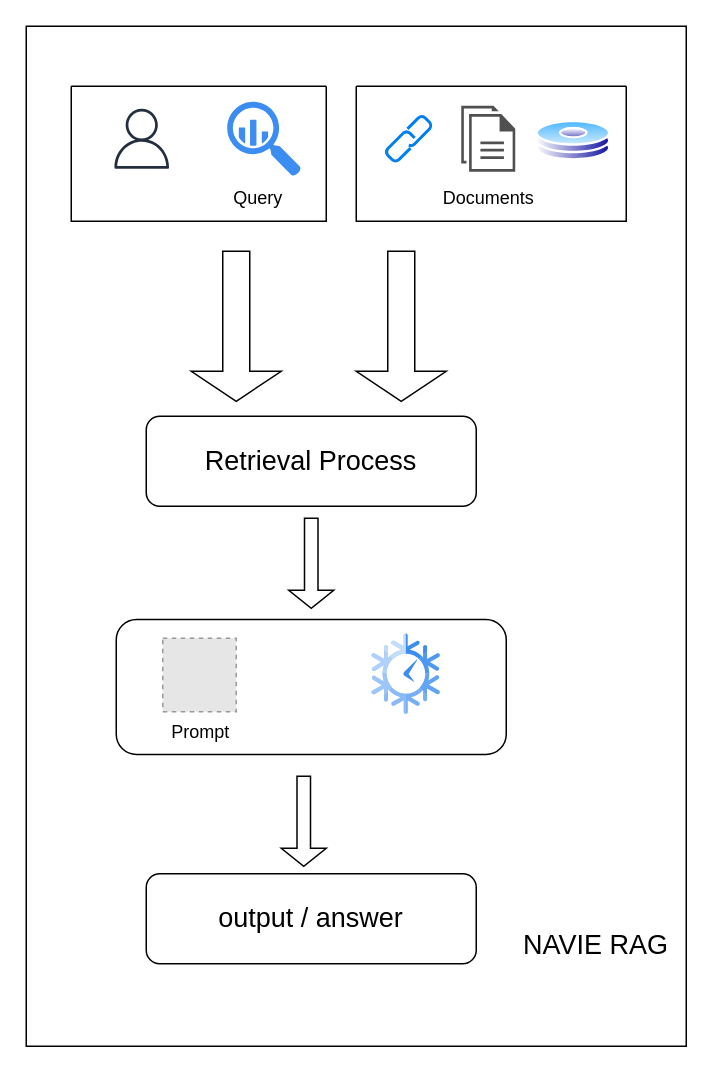
The diagram is 713 pixels wide and 1073 high, and some of its shapes have lost their labels. Grey dashed boxes stand in for pictures. Here are the shapes that lost their labels. From the top down, the centre of each, then its label:
At pixel 141 138: "User".
At pixel 405 673: "LLM".
